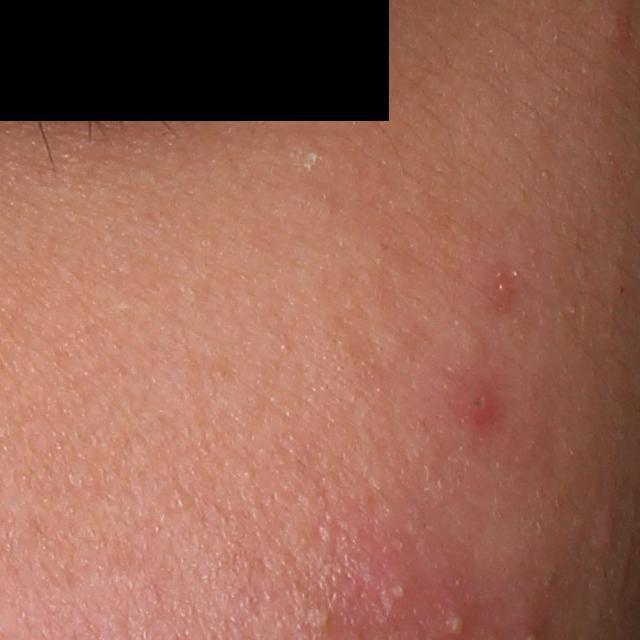papule: (445, 376, 502, 430), (600, 7, 636, 49)
pustule: (371, 566, 418, 617), (435, 600, 473, 639)
